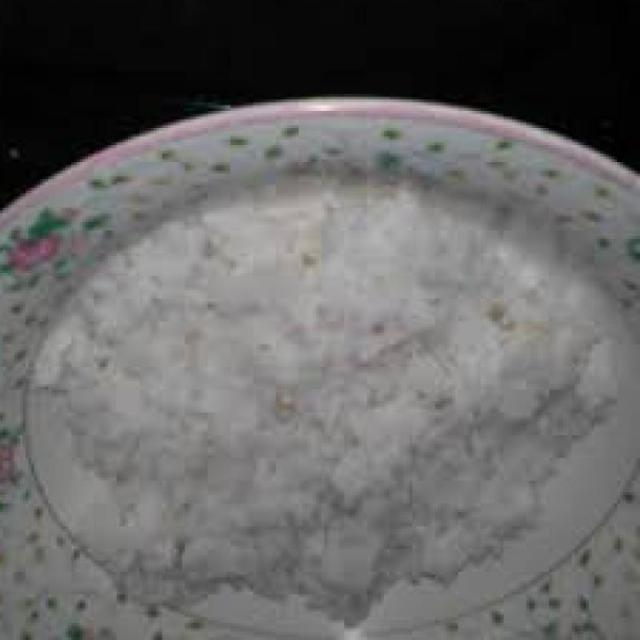nasi_putih: (53, 192, 614, 628)
